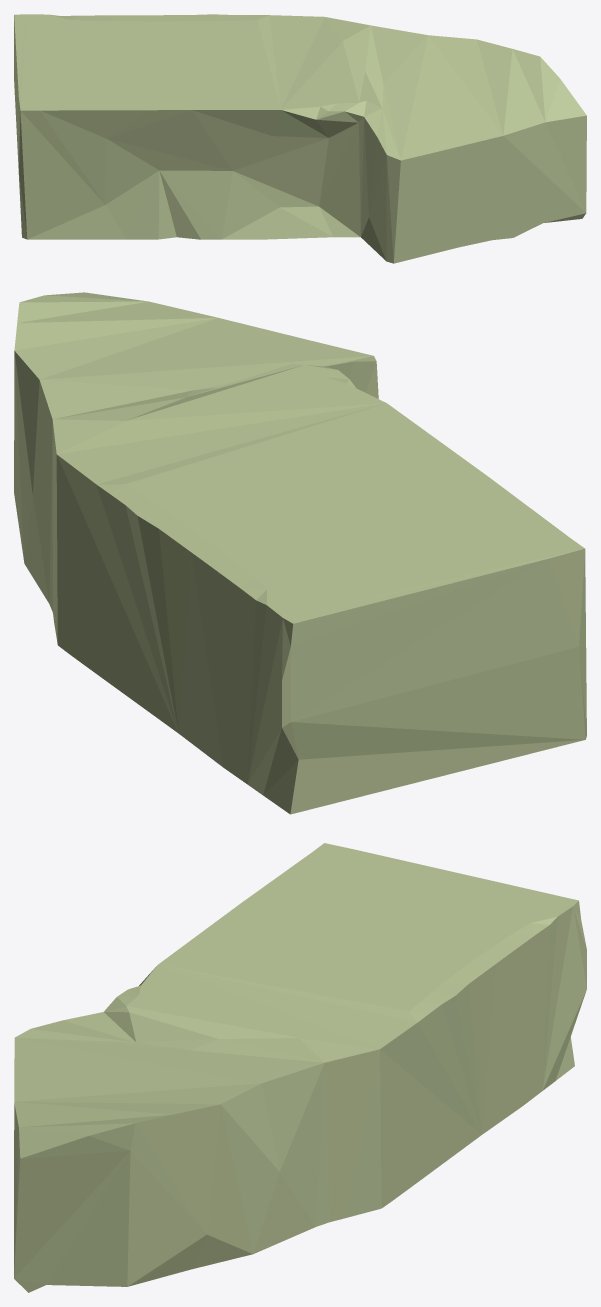
Rendered from ground_13.gltf.
3 views of the same model, one above another, from view 1: azimuth 30°, elevation 25°; view 2: azimuth 150°, elevation 25°; view 3: azimuth 270°, elevation 25° (orthographic). The views are drawn at different scales.
Parts seen in each view (by area): view 1: studentunion; view 2: studentunion; view 3: studentunion.
Boxes of the visible parts, x1,y1,x2,y2 form: studentunion: (14, 14, 586, 263); studentunion: (14, 292, 586, 814); studentunion: (14, 843, 586, 1292).
Size of the model in its own units: 11.12 by 3.16 by 9.6.
